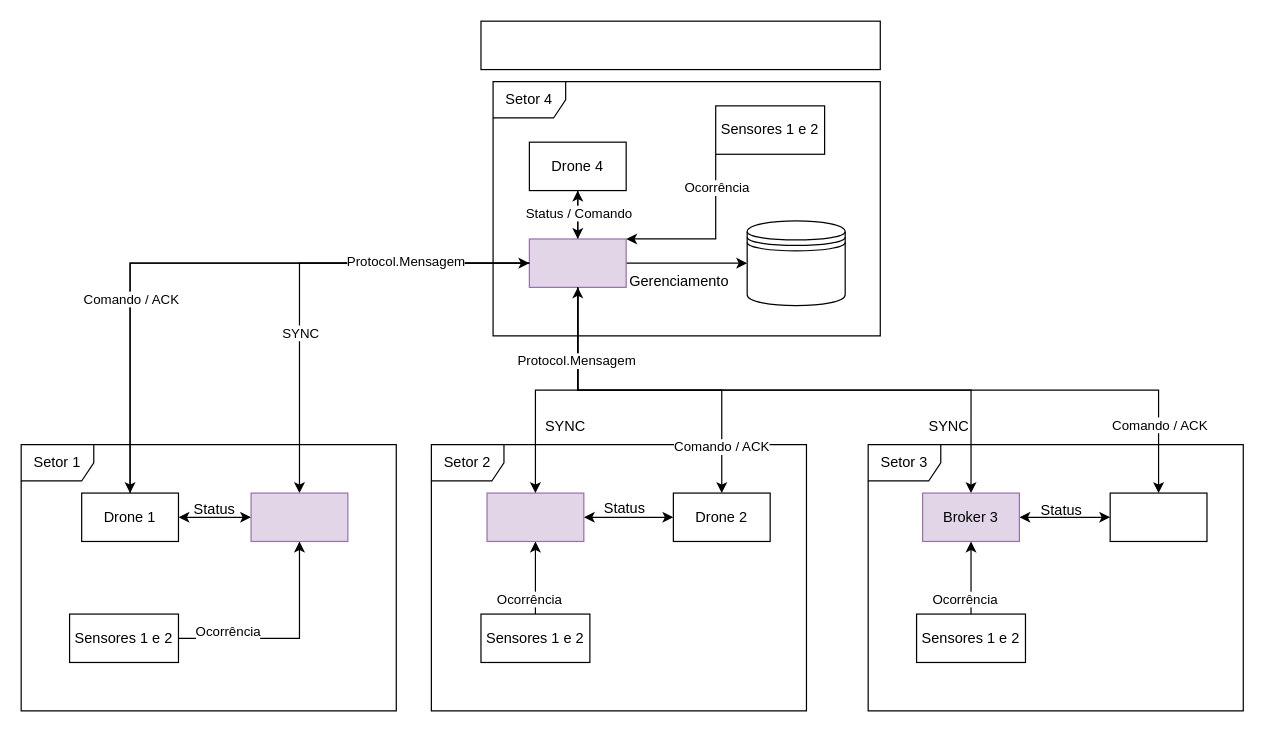
Some shapes in this 1264 by 732 pixel diagram are drawn without their labels. Here are the shapes that lost their labels. From the top down, the centre of each, then its label:
[680,45]: Arquitetura do Sistema
[577,262]: Broker 4 (Coordenador)
[795,263]: Fila de Requisições
[299,516]: Broker 1
[535,516]: Broker 2
[1158,516]: Drone 3
